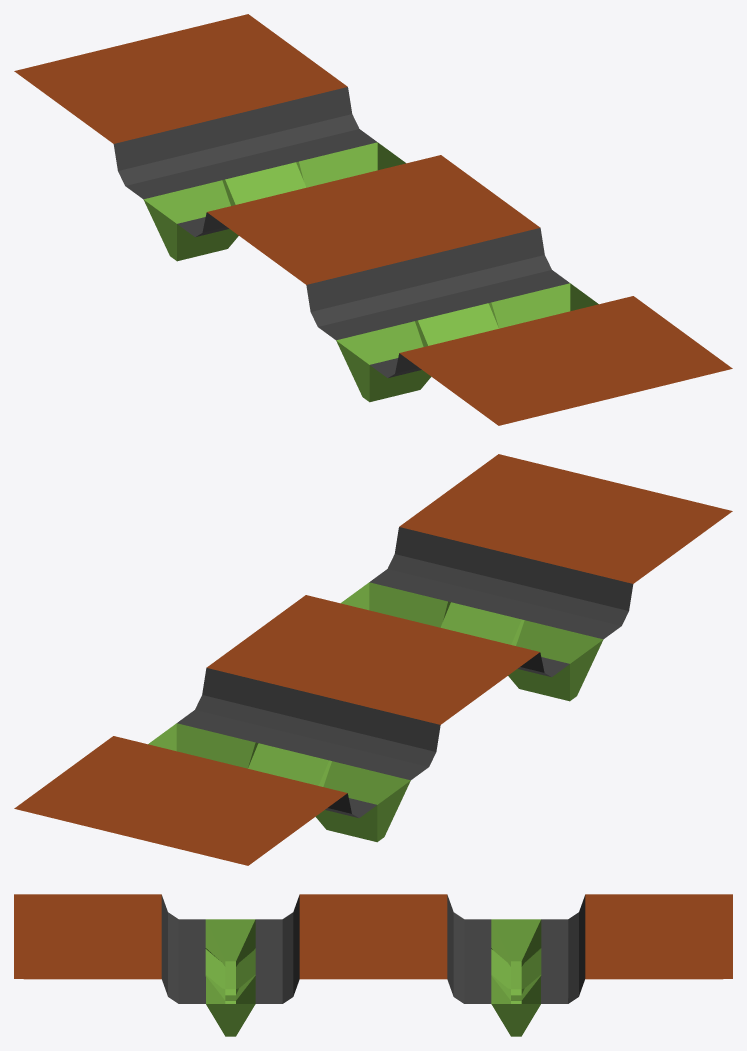
File: roof_hangar.fbx
3 renders of one model, top to bottom at view 1: azimuth 30°, elevation 25°; view 2: azimuth 150°, elevation 25°; view 3: azimuth 270°, elevation 25°, orthographic. The views are drawn at different scales.
Visible parts, largest first — view 1: Hangar.001; view 2: Hangar.001; view 3: Hangar.001.
Boxes of the visible parts, left/top/right/bottom form: Hangar.001: left=14, top=14, right=732, bottom=425; Hangar.001: left=14, top=454, right=732, bottom=865; Hangar.001: left=14, top=894, right=732, bottom=1036.
Bounding box in the file's own units: 77.09 × 26.38 × 276.
